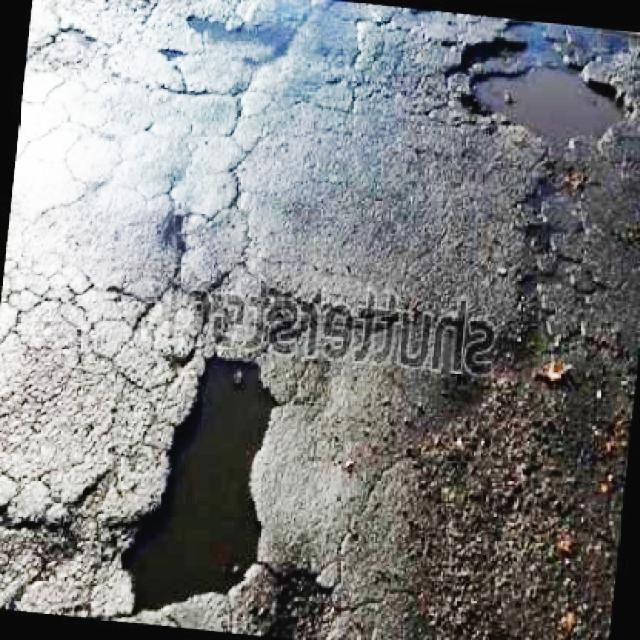pothole: (95, 350, 300, 612), (520, 191, 640, 535), (463, 28, 640, 163), (188, 2, 408, 69)
